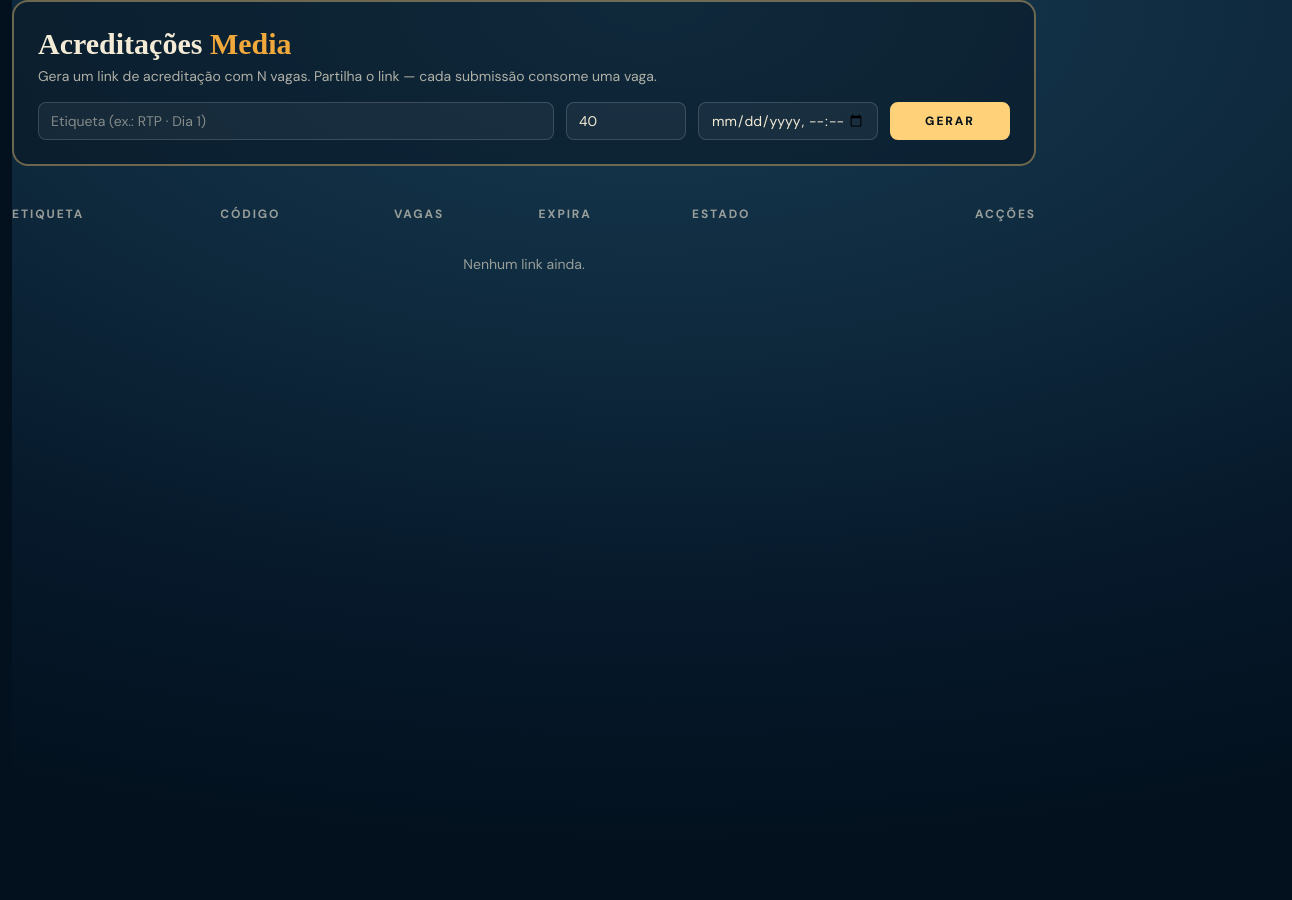
Test: AcreditacoesPanel › create: API error → mostra mensagem
Click the button "Gerar" at (950, 121), box top-left (890, 102), bottom-right (1010, 140)
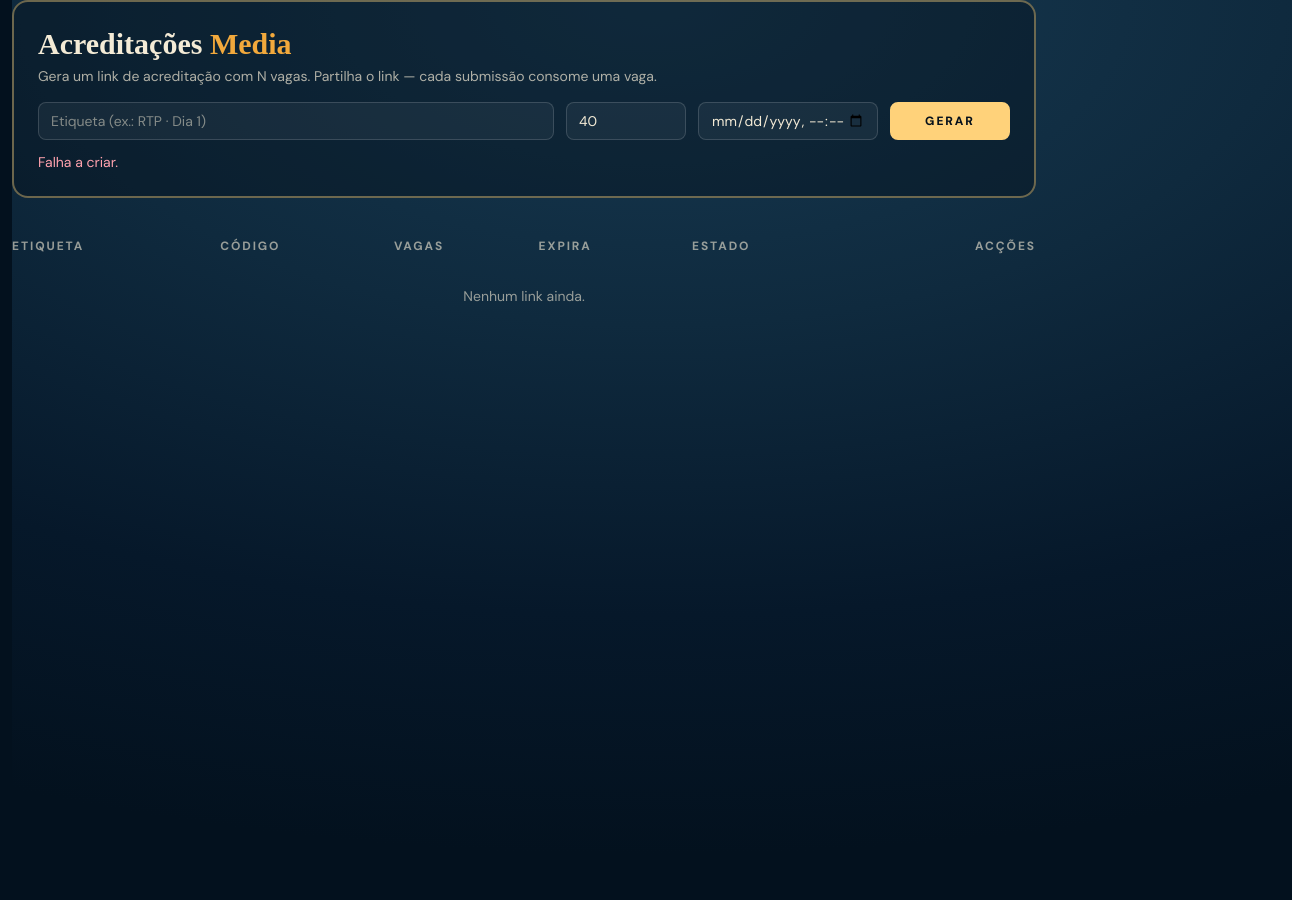
expect the message shows "Falha a criar": met, box top-left (38, 153), bottom-right (118, 171)
